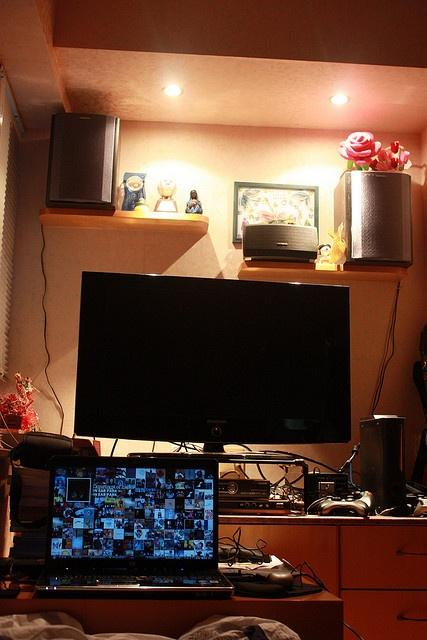AIO PC-Monitor-TV: (75, 268, 351, 460)
